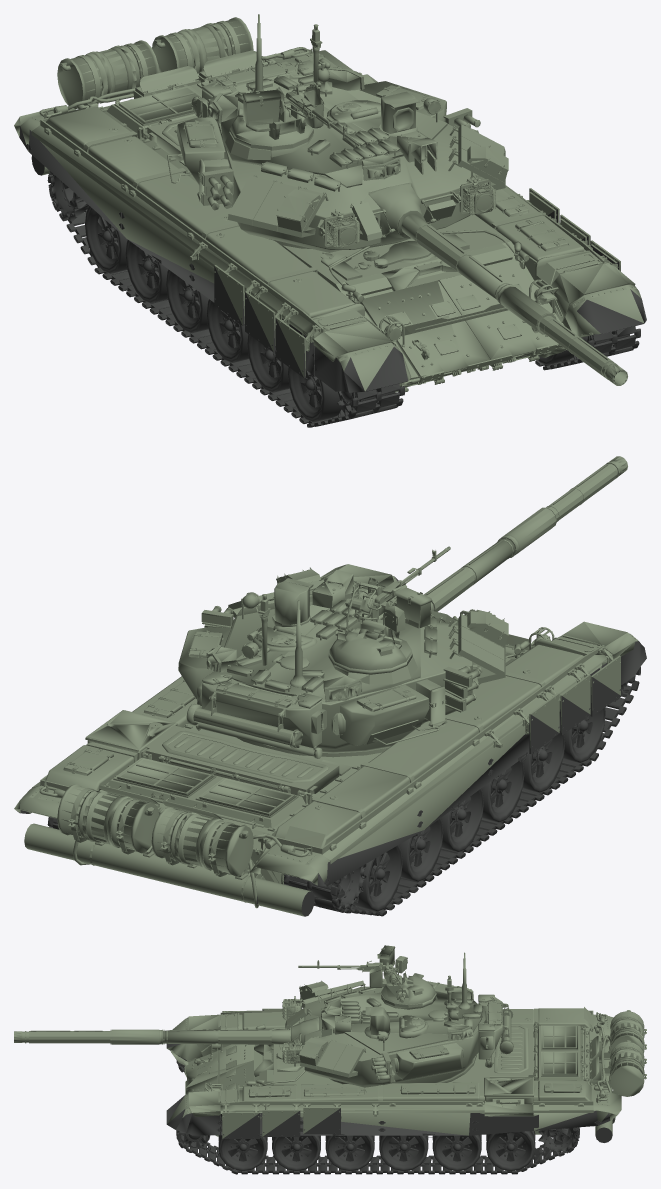
File: t90a_xarchenko_variant.glb
3 views of the same model, one above another, from view 1: azimuth 30°, elevation 25°; view 2: azimuth 150°, elevation 25°; view 3: azimuth 270°, elevation 25° (orthographic). The views are drawn at different scales.
Visible parts, largest first — view 1: Hull, TurretMesh, tracks_running_gear, GunMesh; view 2: Hull, TurretMesh, tracks_running_gear, GunMesh; view 3: Hull, TurretMesh, tracks_running_gear, GunMesh.
Boxes of the visible parts, x1,y1,x2,y2 form: Hull: (14,17,644,392); TurretMesh: (148,14,508,273); tracks_running_gear: (19,126,646,427); GunMesh: (456,255,627,385); Hull: (14,564,638,916); TurretMesh: (107,546,508,789); tracks_running_gear: (17,576,646,916); GunMesh: (431,456,627,609); Hull: (167,1007,646,1138); TurretMesh: (218,945,532,1094); tracks_running_gear: (166,1009,614,1174); GunMesh: (14,1029,271,1044).
Bounding box in the file's own units: 3.65 × 2.81 × 9.53.
